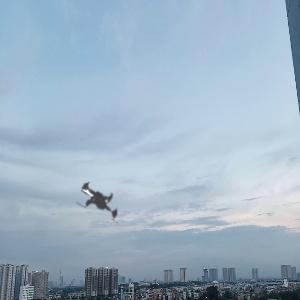drone: (56, 152, 148, 244)
